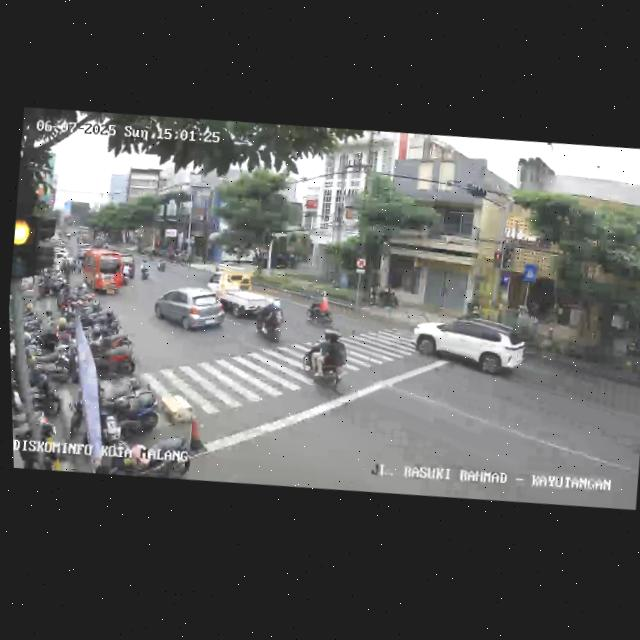car: (416, 308, 530, 384), (202, 265, 285, 323), (150, 281, 228, 340), (76, 245, 129, 298)
motorcycle: (298, 325, 353, 393), (250, 294, 287, 344), (303, 288, 333, 326), (120, 258, 136, 285), (138, 257, 152, 282), (154, 257, 168, 275)
